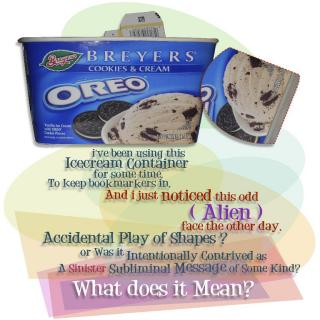Cookie: (73, 111, 105, 140), (216, 102, 243, 136), (96, 98, 134, 122), (234, 130, 260, 144)
Ice cream: (100, 86, 201, 143)
